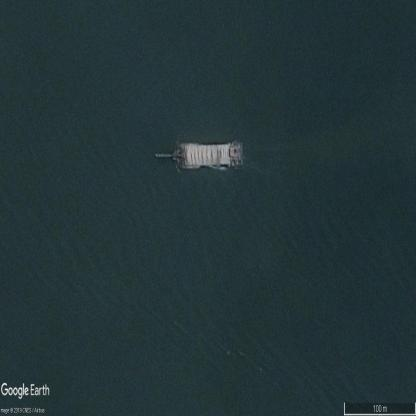ship: (155, 138, 244, 175)
